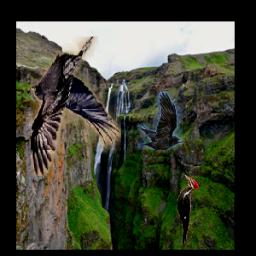Crow: (31, 37, 121, 176), (137, 91, 182, 150)
Woodpecker: (177, 173, 200, 244)
